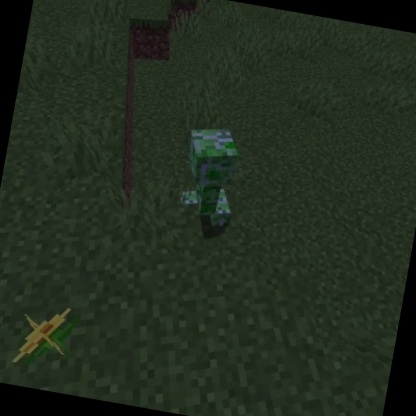creeper: (172, 119, 248, 233)
